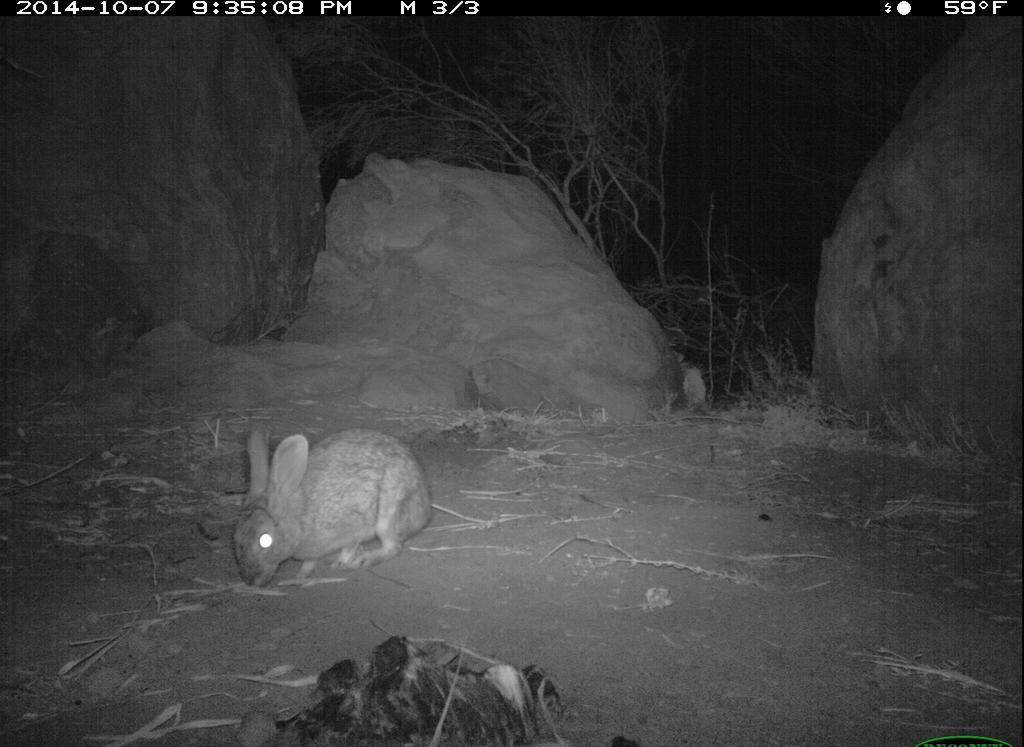rabbit: (222, 406, 434, 601)
